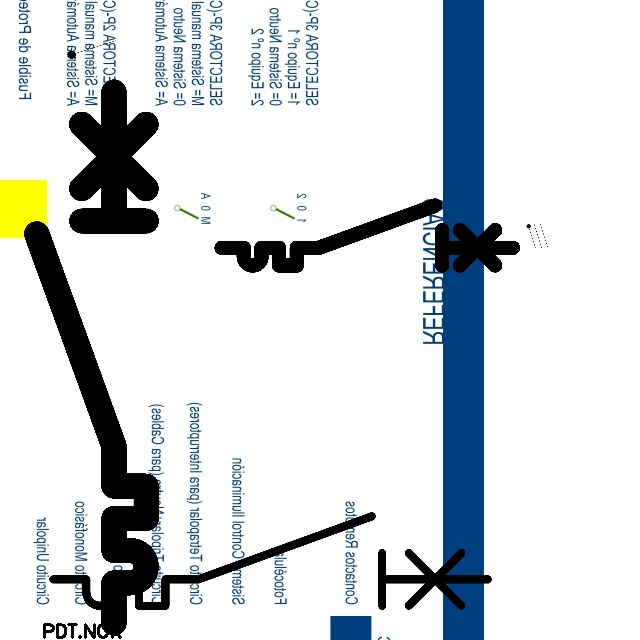interruptor_termomagnetico: (23, 78, 160, 637), (42, 505, 499, 617), (214, 198, 521, 273)
